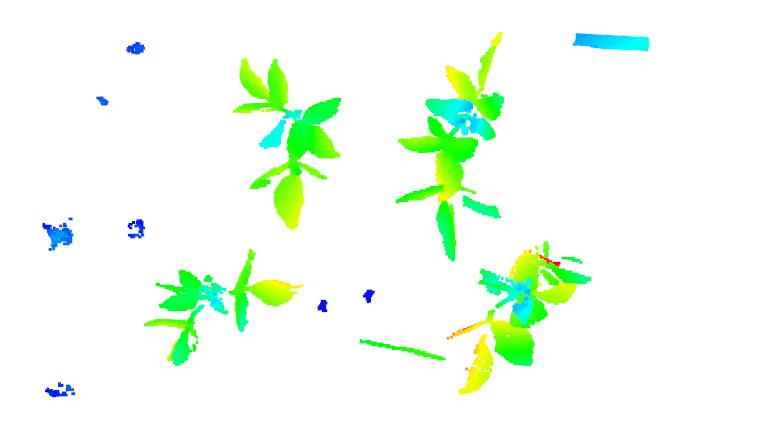mungbean: (393, 32, 512, 261), (441, 239, 598, 396), (233, 57, 348, 236), (139, 247, 307, 369)
